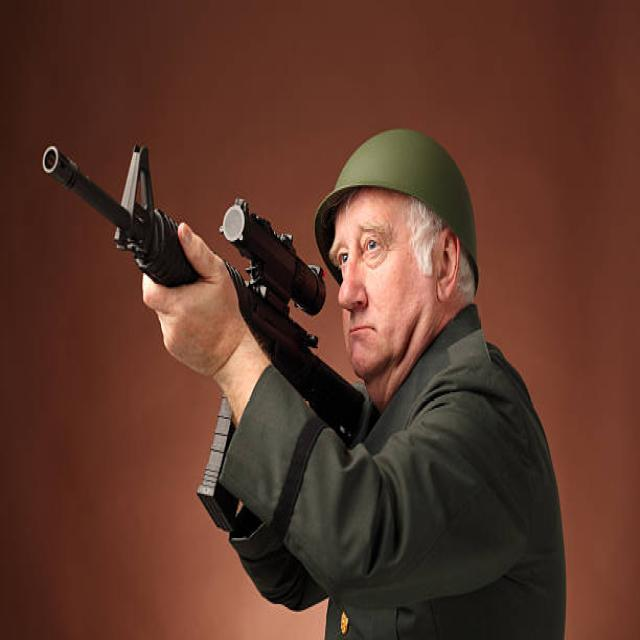soldier: (30, 89, 640, 640)
